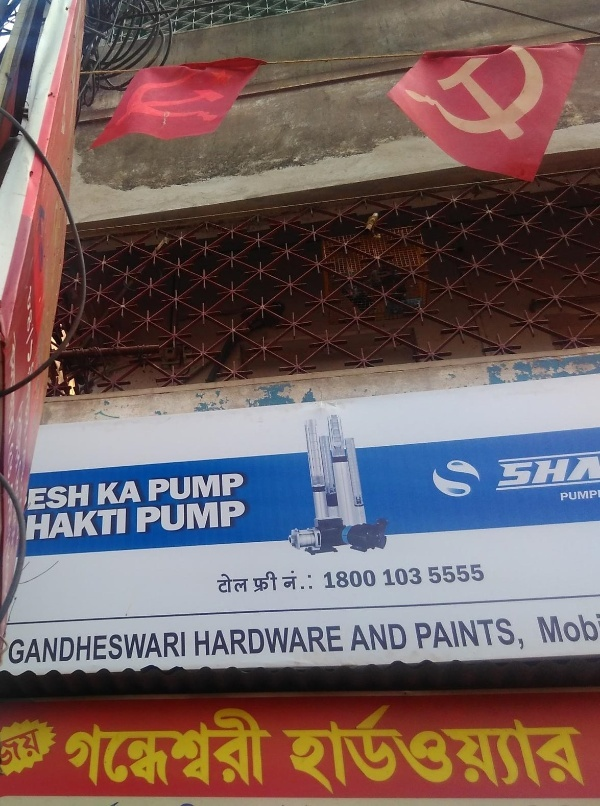text: (17, 8, 32, 610), (33, 8, 48, 610), (49, 8, 64, 610), (3, 8, 16, 610), (65, 8, 77, 610), (289, 699, 304, 802), (305, 699, 320, 802), (321, 699, 336, 802), (337, 699, 352, 802), (353, 699, 368, 802), (369, 699, 384, 802), (385, 699, 400, 802), (401, 699, 416, 802), (417, 699, 432, 802), (433, 699, 448, 802), (449, 699, 464, 802), (465, 699, 480, 802), (481, 699, 496, 802), (497, 699, 512, 802), (513, 699, 528, 802), (529, 699, 544, 802), (545, 699, 560, 802), (561, 699, 576, 802), (401, 44, 416, 135), (417, 44, 432, 135), (433, 44, 448, 135), (449, 44, 464, 135), (465, 44, 480, 135), (481, 44, 496, 135), (497, 44, 512, 135), (513, 44, 528, 135), (529, 44, 544, 135), (81, 706, 96, 789), (97, 706, 112, 789), (113, 706, 128, 789), (129, 706, 144, 789), (145, 706, 160, 789), (161, 706, 176, 789), (177, 706, 192, 789), (193, 706, 208, 789), (209, 706, 224, 789), (225, 706, 240, 789), (241, 706, 256, 789), (257, 706, 272, 789), (577, 699, 589, 802), (225, 63, 241, 127), (129, 63, 144, 127), (145, 63, 160, 127), (161, 63, 176, 127), (177, 63, 192, 127), (193, 63, 208, 127), (209, 63, 224, 127), (497, 450, 512, 496), (513, 450, 528, 496), (529, 450, 544, 496), (545, 450, 560, 496), (561, 450, 576, 496), (577, 450, 592, 496), (513, 613, 529, 656), (1, 723, 16, 767), (17, 723, 32, 767), (417, 613, 432, 656), (433, 613, 448, 656), (449, 613, 464, 656), (465, 613, 480, 656), (481, 613, 496, 656), (497, 613, 512, 656), (282, 699, 288, 802), (161, 466, 176, 506), (177, 466, 192, 506), (193, 466, 208, 506), (209, 466, 224, 506), (225, 466, 240, 506), (545, 610, 560, 649), (561, 610, 576, 649), (577, 610, 592, 649), (145, 500, 160, 537), (161, 500, 176, 537), (177, 500, 192, 537), (193, 500, 208, 537), (209, 500, 224, 537), (225, 500, 240, 537), (33, 506, 48, 543), (49, 506, 64, 543), (65, 506, 80, 543), (81, 506, 96, 543), (97, 506, 112, 543), (113, 506, 128, 543), (545, 44, 551, 135), (209, 621, 224, 657), (225, 621, 240, 657), (241, 621, 256, 657), (257, 621, 272, 657), (273, 621, 288, 657), (289, 621, 304, 657), (305, 621, 320, 657), (321, 621, 336, 657), (97, 474, 112, 509), (113, 474, 128, 509), (33, 481, 48, 516), (49, 481, 64, 516), (65, 481, 80, 516), (17, 630, 32, 664), (33, 630, 48, 664), (49, 630, 64, 664), (65, 630, 80, 664), (81, 630, 96, 664), (97, 630, 112, 664), (113, 630, 128, 664), (129, 630, 144, 664), (145, 630, 160, 664), (161, 630, 176, 664), (177, 630, 192, 664), (129, 474, 143, 509), (33, 723, 44, 767), (148, 466, 160, 506), (321, 565, 336, 597), (337, 565, 352, 597), (353, 565, 368, 597), (196, 621, 208, 657), (337, 621, 349, 657), (353, 624, 368, 652), (369, 624, 384, 652), (385, 624, 400, 652), (75, 706, 80, 789), (241, 500, 252, 537), (433, 559, 448, 586), (449, 559, 464, 586), (465, 559, 480, 586), (257, 570, 272, 596), (289, 568, 304, 594), (225, 572, 240, 597), (134, 500, 144, 537), (385, 563, 400, 587), (401, 563, 416, 587), (369, 565, 380, 597), (81, 481, 91, 516), (273, 706, 277, 789), (593, 450, 600, 496), (241, 466, 249, 506), (536, 610, 544, 649), (305, 568, 316, 594), (213, 572, 224, 597), (481, 559, 491, 586), (25, 506, 32, 543), (241, 572, 251, 597), (561, 489, 576, 505), (577, 489, 592, 505), (593, 610, 599, 649), (417, 563, 426, 587), (273, 570, 281, 596), (280, 568, 288, 594), (401, 624, 408, 652), (11, 630, 16, 664), (426, 559, 432, 586), (28, 481, 32, 516), (413, 613, 416, 656), (252, 570, 256, 596), (593, 489, 599, 505), (399, 44, 400, 135), (349, 624, 352, 652), (129, 506, 131, 543), (381, 563, 384, 587), (495, 450, 496, 496), (558, 489, 560, 505)
